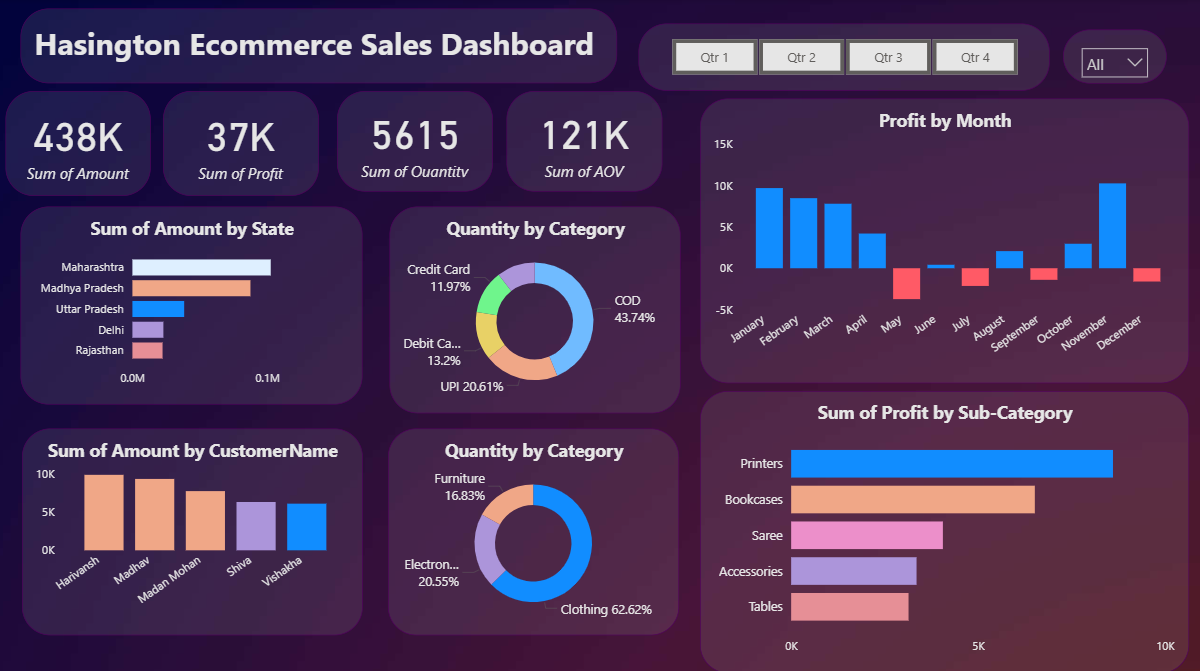

The dashboard page shown, as its layout file describes it:
{"tool":"powerbi","page":{"name":"Page 1","canvas":[1280,720],"ordinal":0},"visuals":[{"type":"textbox","box":[27.7,11.9,632.8,79.1],"z":0},{"type":"columnChart","title":"Profit by Month","fields":{"Y":["Sum(Details.Profit)"],"Category":["Orders.Order Date.Variation.Date Hierarchy.Month"]},"box":[747.6,106.6,518.5,302.2],"z":1000},{"type":"barChart","fields":{"Category":["Details.Sub-Category"],"Y":["Sum(Details.Profit)"]},"box":[747.6,416.7,518.5,299],"z":2000},{"type":"donutChart","title":"Quantity by Category","fields":{"Category":["Details.Category"],"Y":["Sum(Details.Quantity)"]},"box":[416.7,456.5,308.6,219.5],"z":3000},{"type":"donutChart","title":"Quantity by Category","fields":{"Y":["Sum(Details.Quantity)"],"Category":["Details.PaymentMode"]},"box":[418.3,221.1,308.6,219.5],"z":4000},{"type":"card","fields":{"Values":["Sum(Details.Amount)"]},"box":[11.1,98.6,154.3,111.3],"z":5000},{"type":"card","fields":{"Values":["Sum(Details.Quantity)"]},"box":[362.7,98.6,165.4,106.6],"z":6000},{"type":"card","fields":{"Values":["Sum(Details.Profit)"]},"box":[178.1,98.6,165.4,111.3],"z":7000},{"type":"card","fields":{"Values":["Sum(Details.AOV)"]},"box":[542.4,98.6,165.4,106.6],"z":8000},{"type":"barChart","fields":{"Category":["Orders.State"],"Y":["Sum(Details.Amount)"]},"box":[27,221.1,362.7,210],"z":9000},{"type":"columnChart","fields":{"Category":["Orders.CustomerName"],"Y":["Sum(Details.Amount)"]},"box":[28.6,456.5,361.1,219.5],"z":10000},{"type":"slicer","fields":{"Values":["Orders.Order Date.Variation.Date Hierarchy.Quarter"]},"box":[682.4,27,435.8,71.6],"z":11000},{"type":"slicer","fields":{"Values":["Orders.State"]},"box":[1132.5,33.4,109.8,57.3],"z":11001}]}

Visuals, with their boxes in screenshot pixels (x1, y1, x2, y2), scaled from the page's 1280x720 canvas onto the 1200x671 screenshot:
textbox: (x1=26, y1=11, x2=619, y2=85)
"Profit by Month" columnChart: (x1=701, y1=99, x2=1187, y2=381)
barChart - Details.Sub-Category x Sum(Details.Profit): (x1=701, y1=388, x2=1187, y2=667)
"Quantity by Category" donutChart: (x1=391, y1=425, x2=680, y2=630)
"Quantity by Category" donutChart: (x1=392, y1=206, x2=681, y2=411)
card - Sum(Details.Amount): (x1=10, y1=92, x2=155, y2=196)
card - Sum(Details.Quantity): (x1=340, y1=92, x2=495, y2=191)
card - Sum(Details.Profit): (x1=167, y1=92, x2=322, y2=196)
card - Sum(Details.AOV): (x1=508, y1=92, x2=664, y2=191)
barChart - Orders.State x Sum(Details.Amount): (x1=25, y1=206, x2=365, y2=402)
columnChart - Orders.CustomerName x Sum(Details.Amount): (x1=27, y1=425, x2=365, y2=630)
slicer - Orders.Order Date.Variation.Date Hierarchy.Quarter: (x1=640, y1=25, x2=1048, y2=92)
slicer - Orders.State: (x1=1062, y1=31, x2=1165, y2=85)
